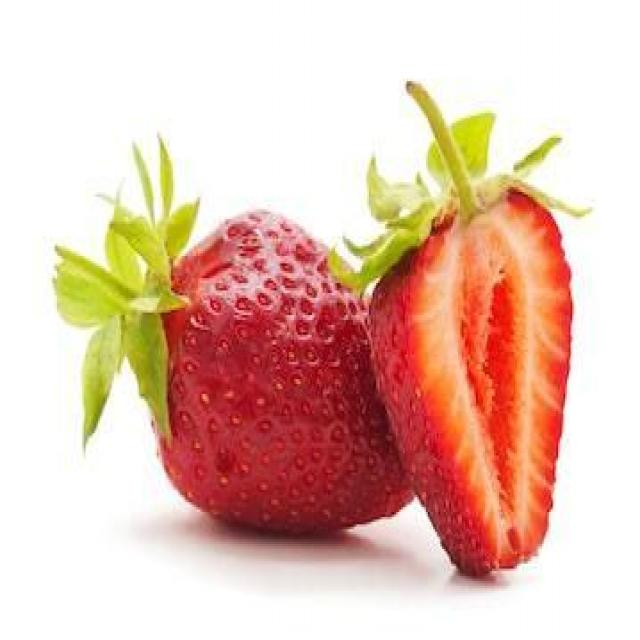strawberry: (140, 198, 370, 539), (411, 180, 572, 581)
